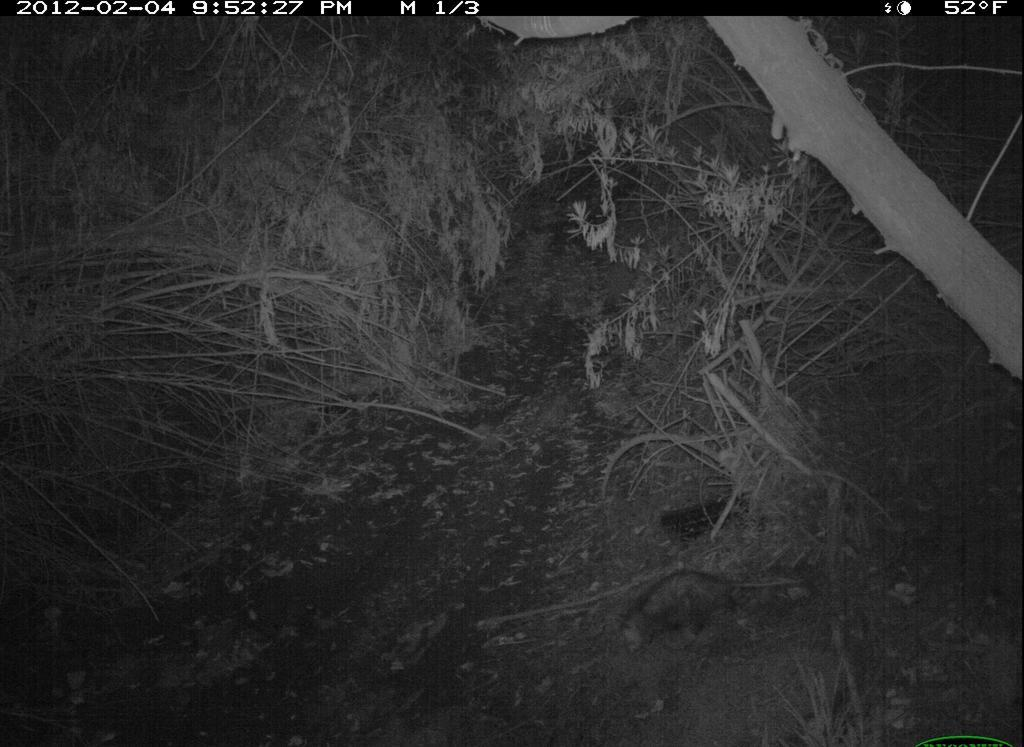opossum: (614, 553, 839, 665)
